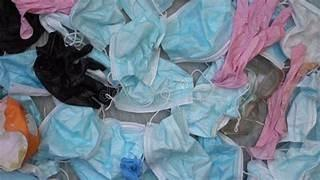Mask: (212, 0, 290, 87), (249, 44, 307, 159), (34, 32, 116, 107), (173, 59, 246, 136), (221, 56, 282, 146), (144, 111, 212, 178), (161, 0, 233, 62), (114, 59, 192, 112), (78, 118, 144, 178), (109, 14, 164, 84), (36, 103, 100, 159), (180, 84, 244, 136), (88, 118, 143, 178), (0, 97, 39, 170), (70, 0, 125, 51), (281, 72, 319, 141), (281, 0, 319, 62), (0, 0, 43, 54), (12, 0, 73, 38), (0, 50, 49, 95), (3, 97, 39, 158), (0, 51, 48, 95), (198, 133, 242, 179), (267, 141, 319, 179), (39, 13, 87, 48), (246, 56, 283, 99), (88, 48, 119, 87), (118, 0, 173, 19), (0, 132, 27, 170), (20, 154, 58, 179), (11, 95, 41, 125), (18, 159, 58, 179), (39, 13, 73, 36), (260, 42, 287, 68), (70, 159, 105, 179), (196, 58, 222, 84), (260, 43, 287, 68), (88, 48, 110, 77), (247, 160, 273, 179), (120, 157, 142, 179), (307, 104, 319, 140), (0, 170, 37, 179), (303, 164, 319, 179), (152, 0, 173, 11), (141, 169, 157, 179), (0, 86, 6, 98)
